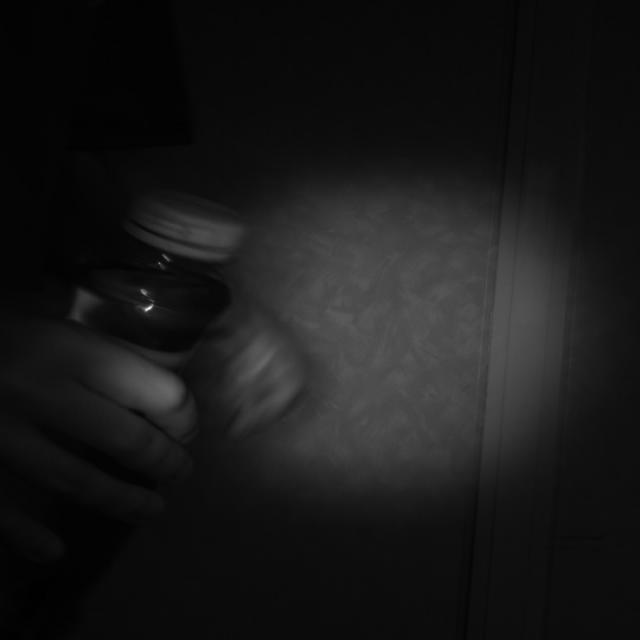Not Good: (127, 191, 246, 262)
